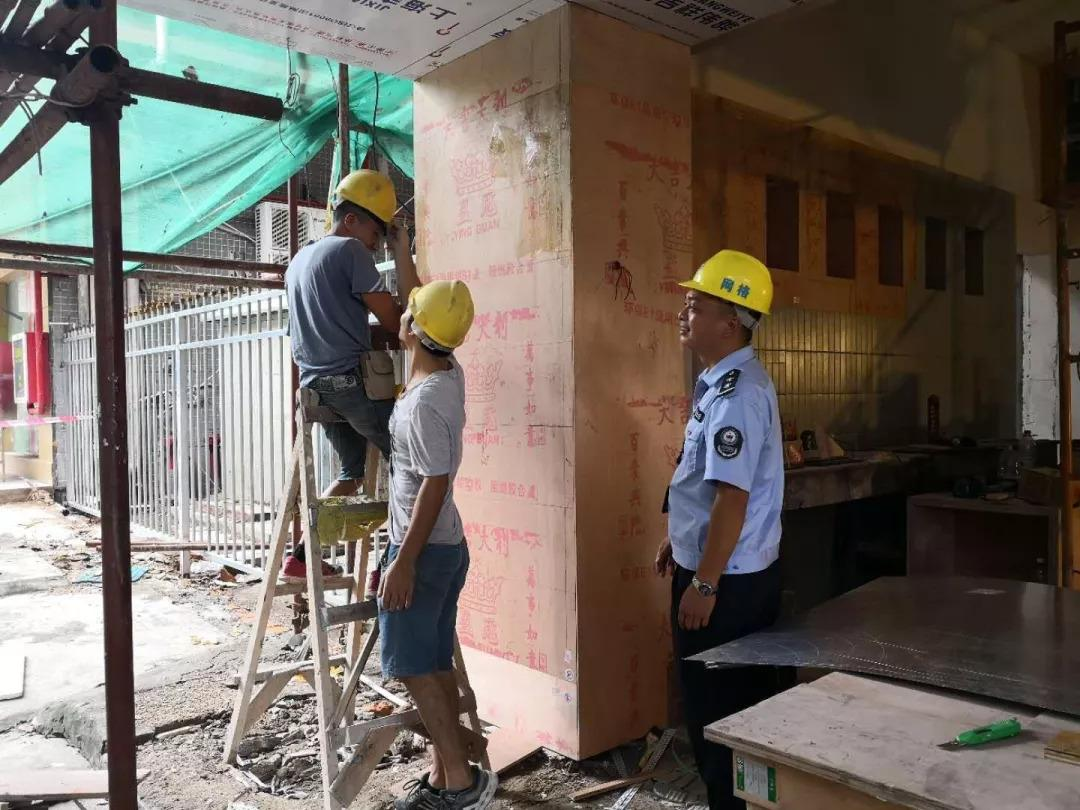helmet: (676, 252, 789, 315), (412, 279, 482, 342), (340, 167, 401, 220)
